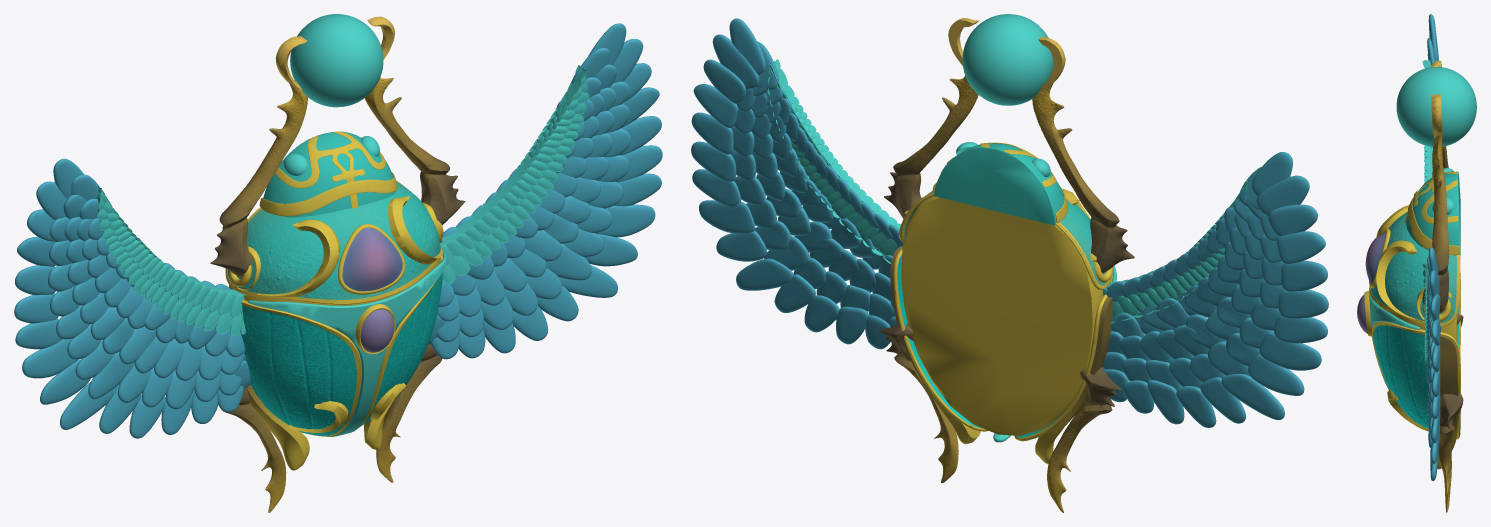
File: scarab.glb
3 views of the same model, side by side, from view 1: azimuth 30°, elevation 25°; view 2: azimuth 150°, elevation 25°; view 3: azimuth 270°, elevation 25° (orthographic). The views are drawn at different scales.
Parts seen in each view (by area): view 1: Object_2; view 2: Object_2; view 3: Object_2.
Boxes of the visible parts, <box> form: Object_2: <box>14,14,662,512</box>; Object_2: <box>691,14,1328,512</box>; Object_2: <box>1357,14,1476,512</box>.
Size of the model in its own units: 6.23 by 4.44 by 1.16.
